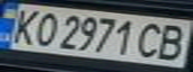1: (112, 17, 139, 56)
2: (54, 11, 81, 52)
7: (93, 15, 118, 55)
9: (75, 12, 100, 53)
B: (151, 21, 193, 62)
C: (133, 20, 172, 60)
K: (3, 6, 45, 45)
O: (27, 9, 63, 47)
